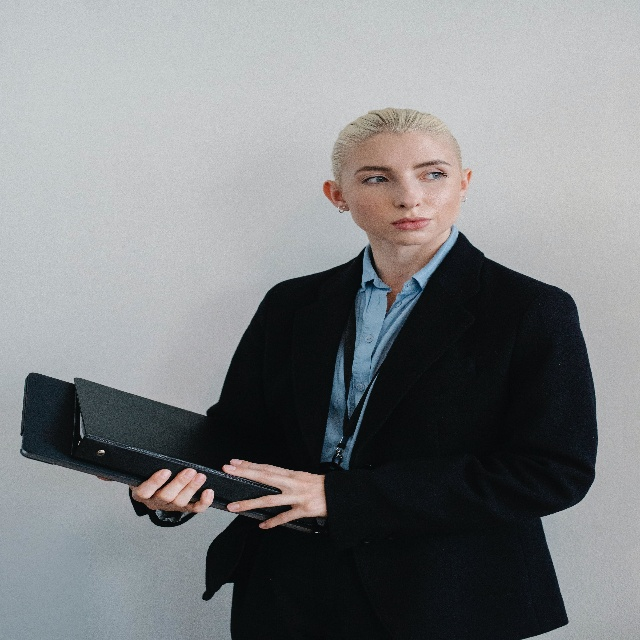Sin_guantes: (220, 457, 329, 531), (129, 465, 216, 517)
